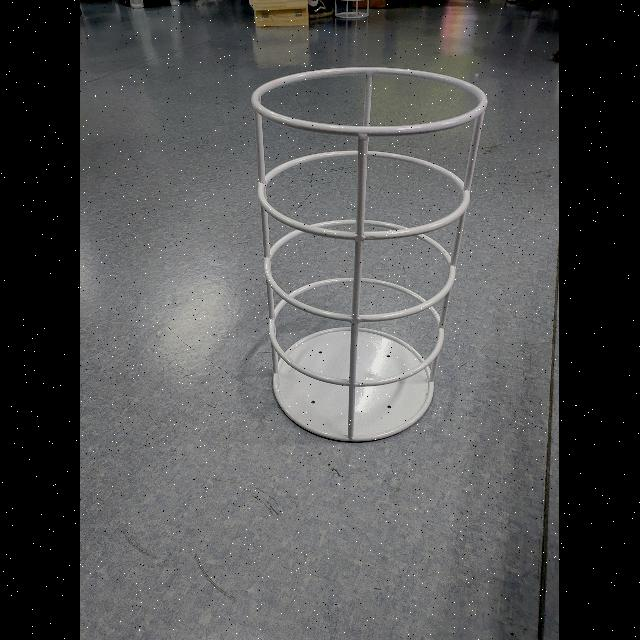S: (242, 59, 493, 448)
